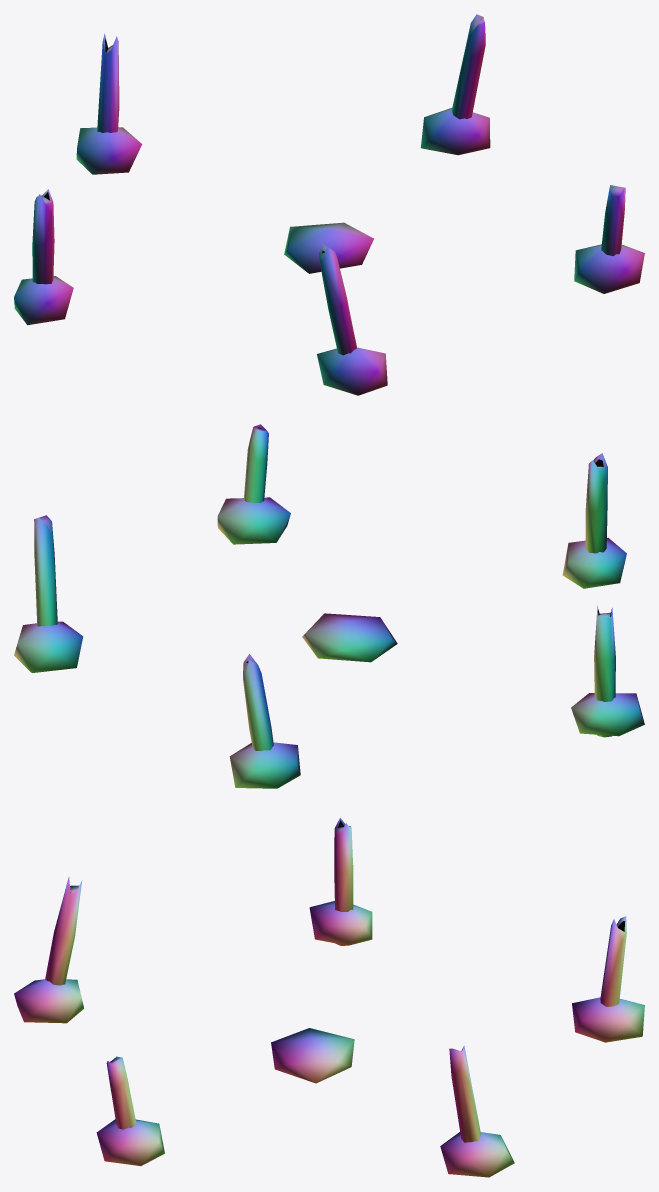
File: SM_Prop_March_RitualCircle_LOD1.fbx
3 views of the same model, one above another, from view 1: azimuth 30°, elevation 25°; view 2: azimuth 150°, elevation 25°; view 3: azimuth 270°, elevation 25° (orthographic). The views are drawn at different scales.
Visible parts, largest first — view 1: SM_Prop_March_RitualCircle_LOD1; view 2: SM_Prop_March_RitualCircle_LOD1; view 3: SM_Prop_March_RitualCircle_LOD1.
Part boxes in pixels (box(x1,y1,x2,y2)): SM_Prop_March_RitualCircle_LOD1: box(14, 14, 644, 395); SM_Prop_March_RitualCircle_LOD1: box(14, 424, 644, 788); SM_Prop_March_RitualCircle_LOD1: box(14, 817, 644, 1177).
Bounding box in the file's own units: 2.75 × 0.6767 × 2.84.
